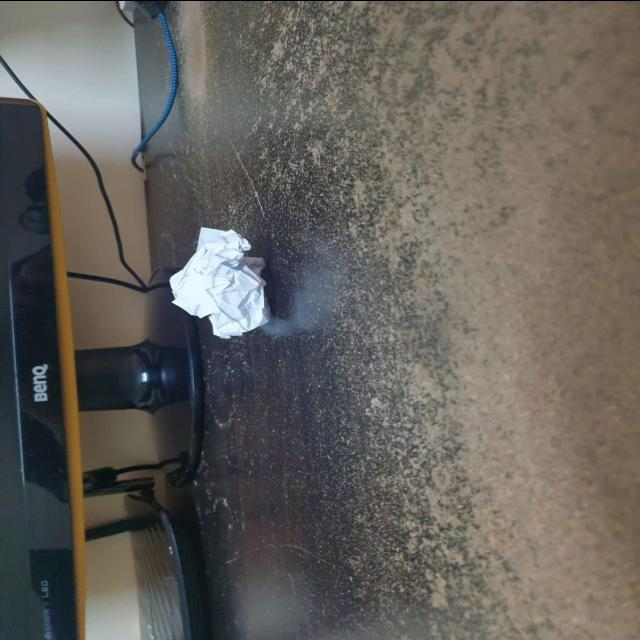kertas: (165, 221, 280, 337)
